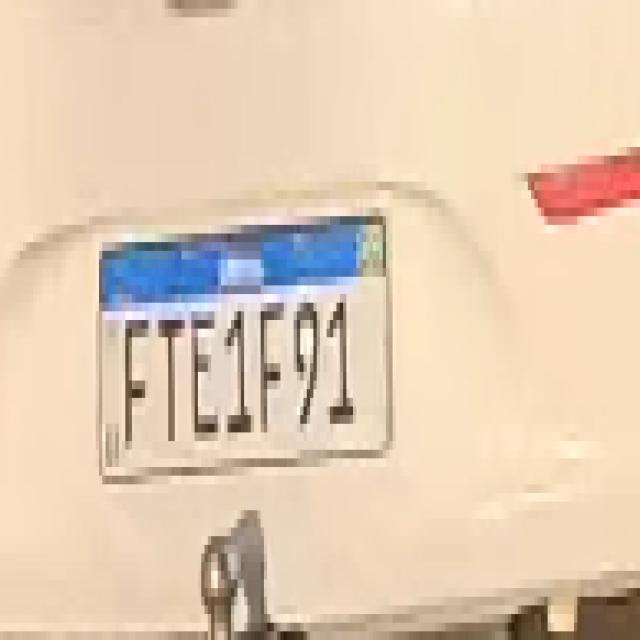Placa_mercosul_carro: (99, 214, 390, 479)
